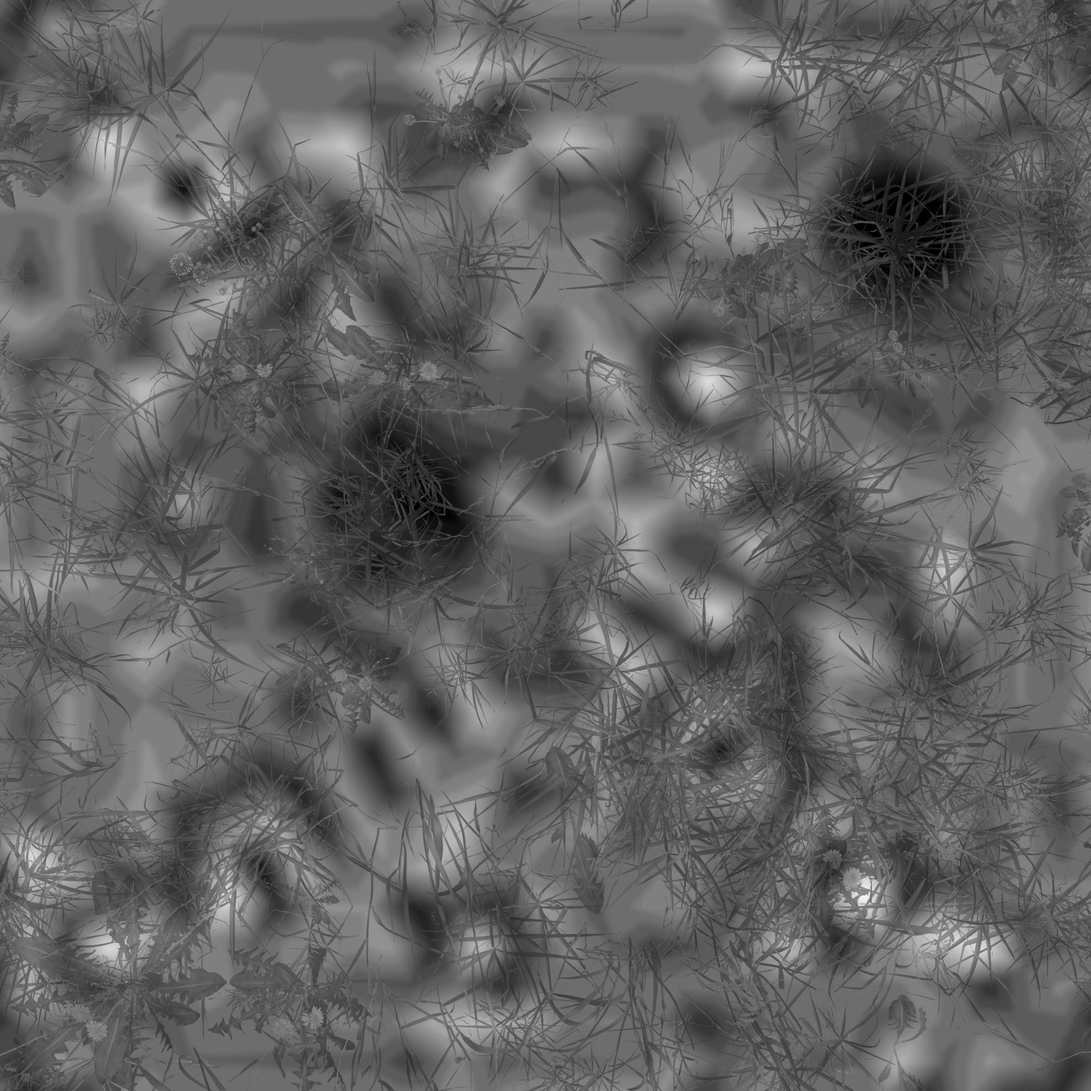landmine: (314, 425, 476, 594), (816, 160, 965, 300)
